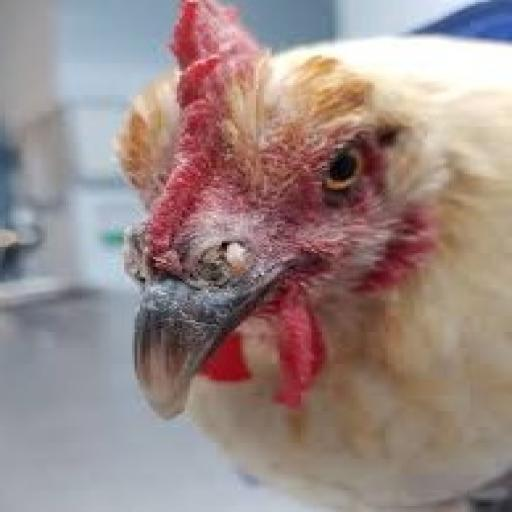disease: (110, 194, 283, 312)
